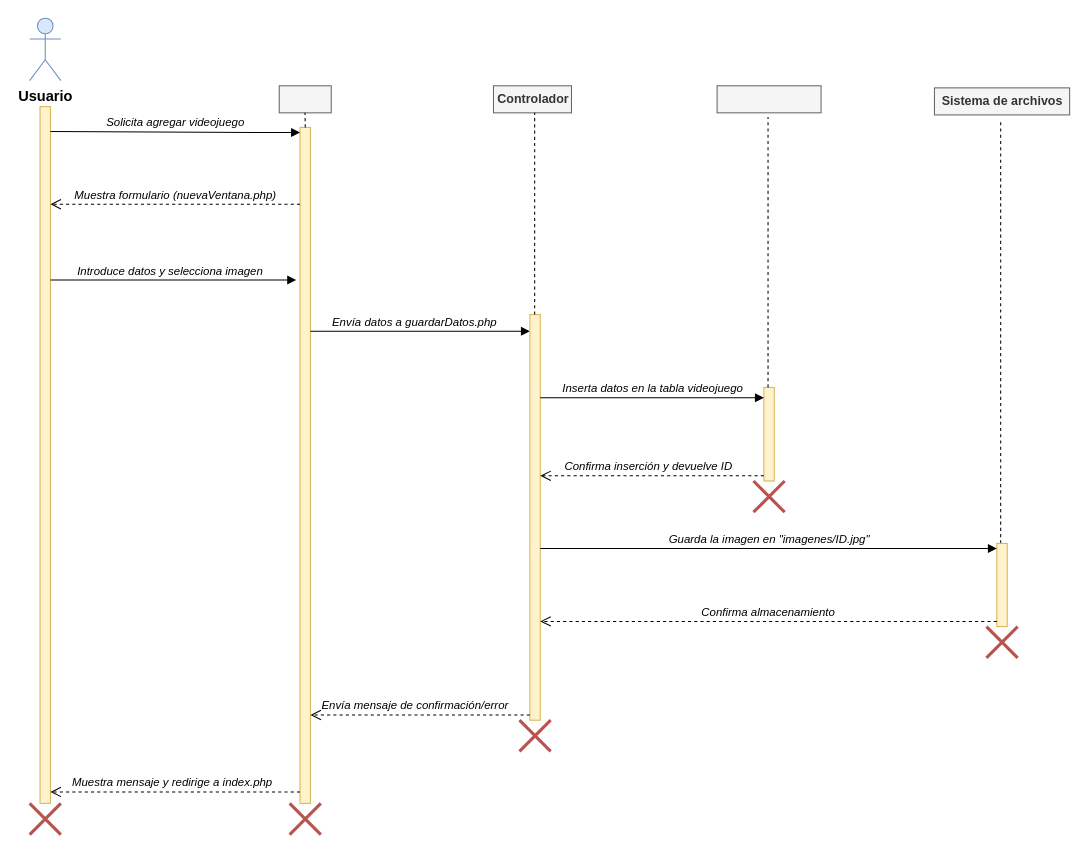
The diagram is 1088 pixels wide and 854 high, and some of its shapes have lost their labels. The shapes that lost their labels are listed below. From the top down, each one's centre as x and y in pixels, then its label:
At (304,99): "Interfaz".
At (768,99): "Base de datos".
